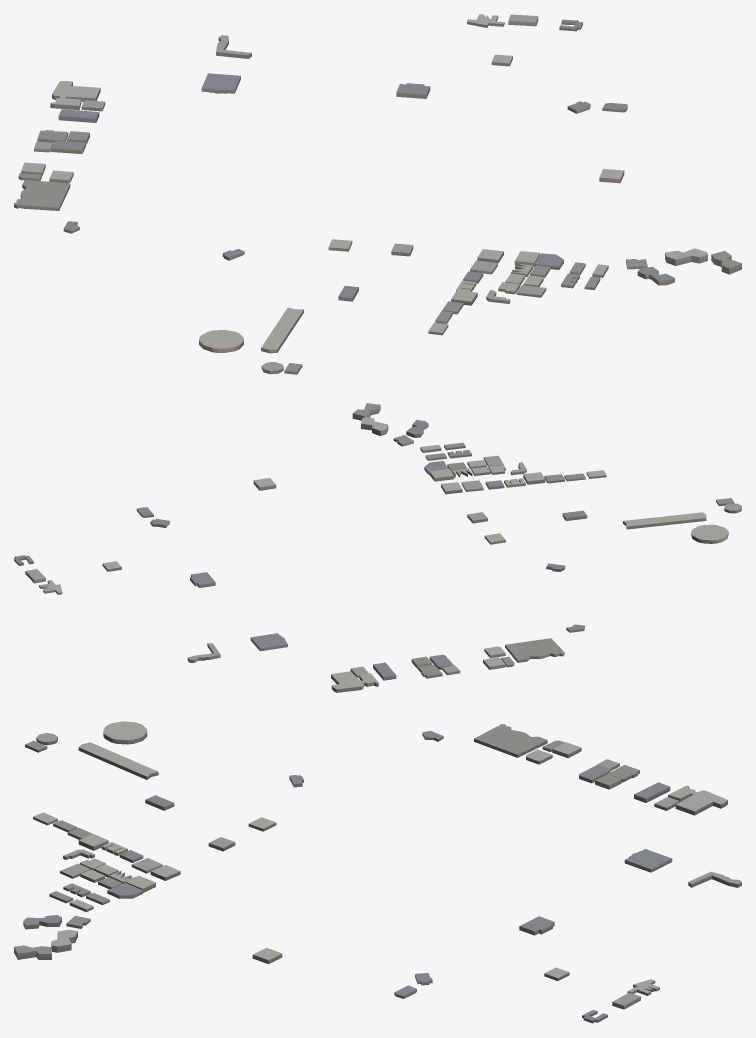
The model's file is bld_11_7.fbx.
3 renders of one model, top to bottom at view 1: azimuth 30°, elevation 25°; view 2: azimuth 150°, elevation 25°; view 3: azimuth 270°, elevation 25°, orthographic. The views are drawn at different scales.
Parts seen in each view (by area): view 1: bld_11_7_LOD0; view 2: bld_11_7_LOD0; view 3: bld_11_7_LOD0.
Boxes of the visible parts, bbox=[...] form: bld_11_7_LOD0: bbox=[14, 14, 741, 374]; bld_11_7_LOD0: bbox=[14, 403, 741, 692]; bld_11_7_LOD0: bbox=[14, 721, 741, 1023].
Size of what is drawn, in the model's own units: 2044 by 20.13 by 2111.
